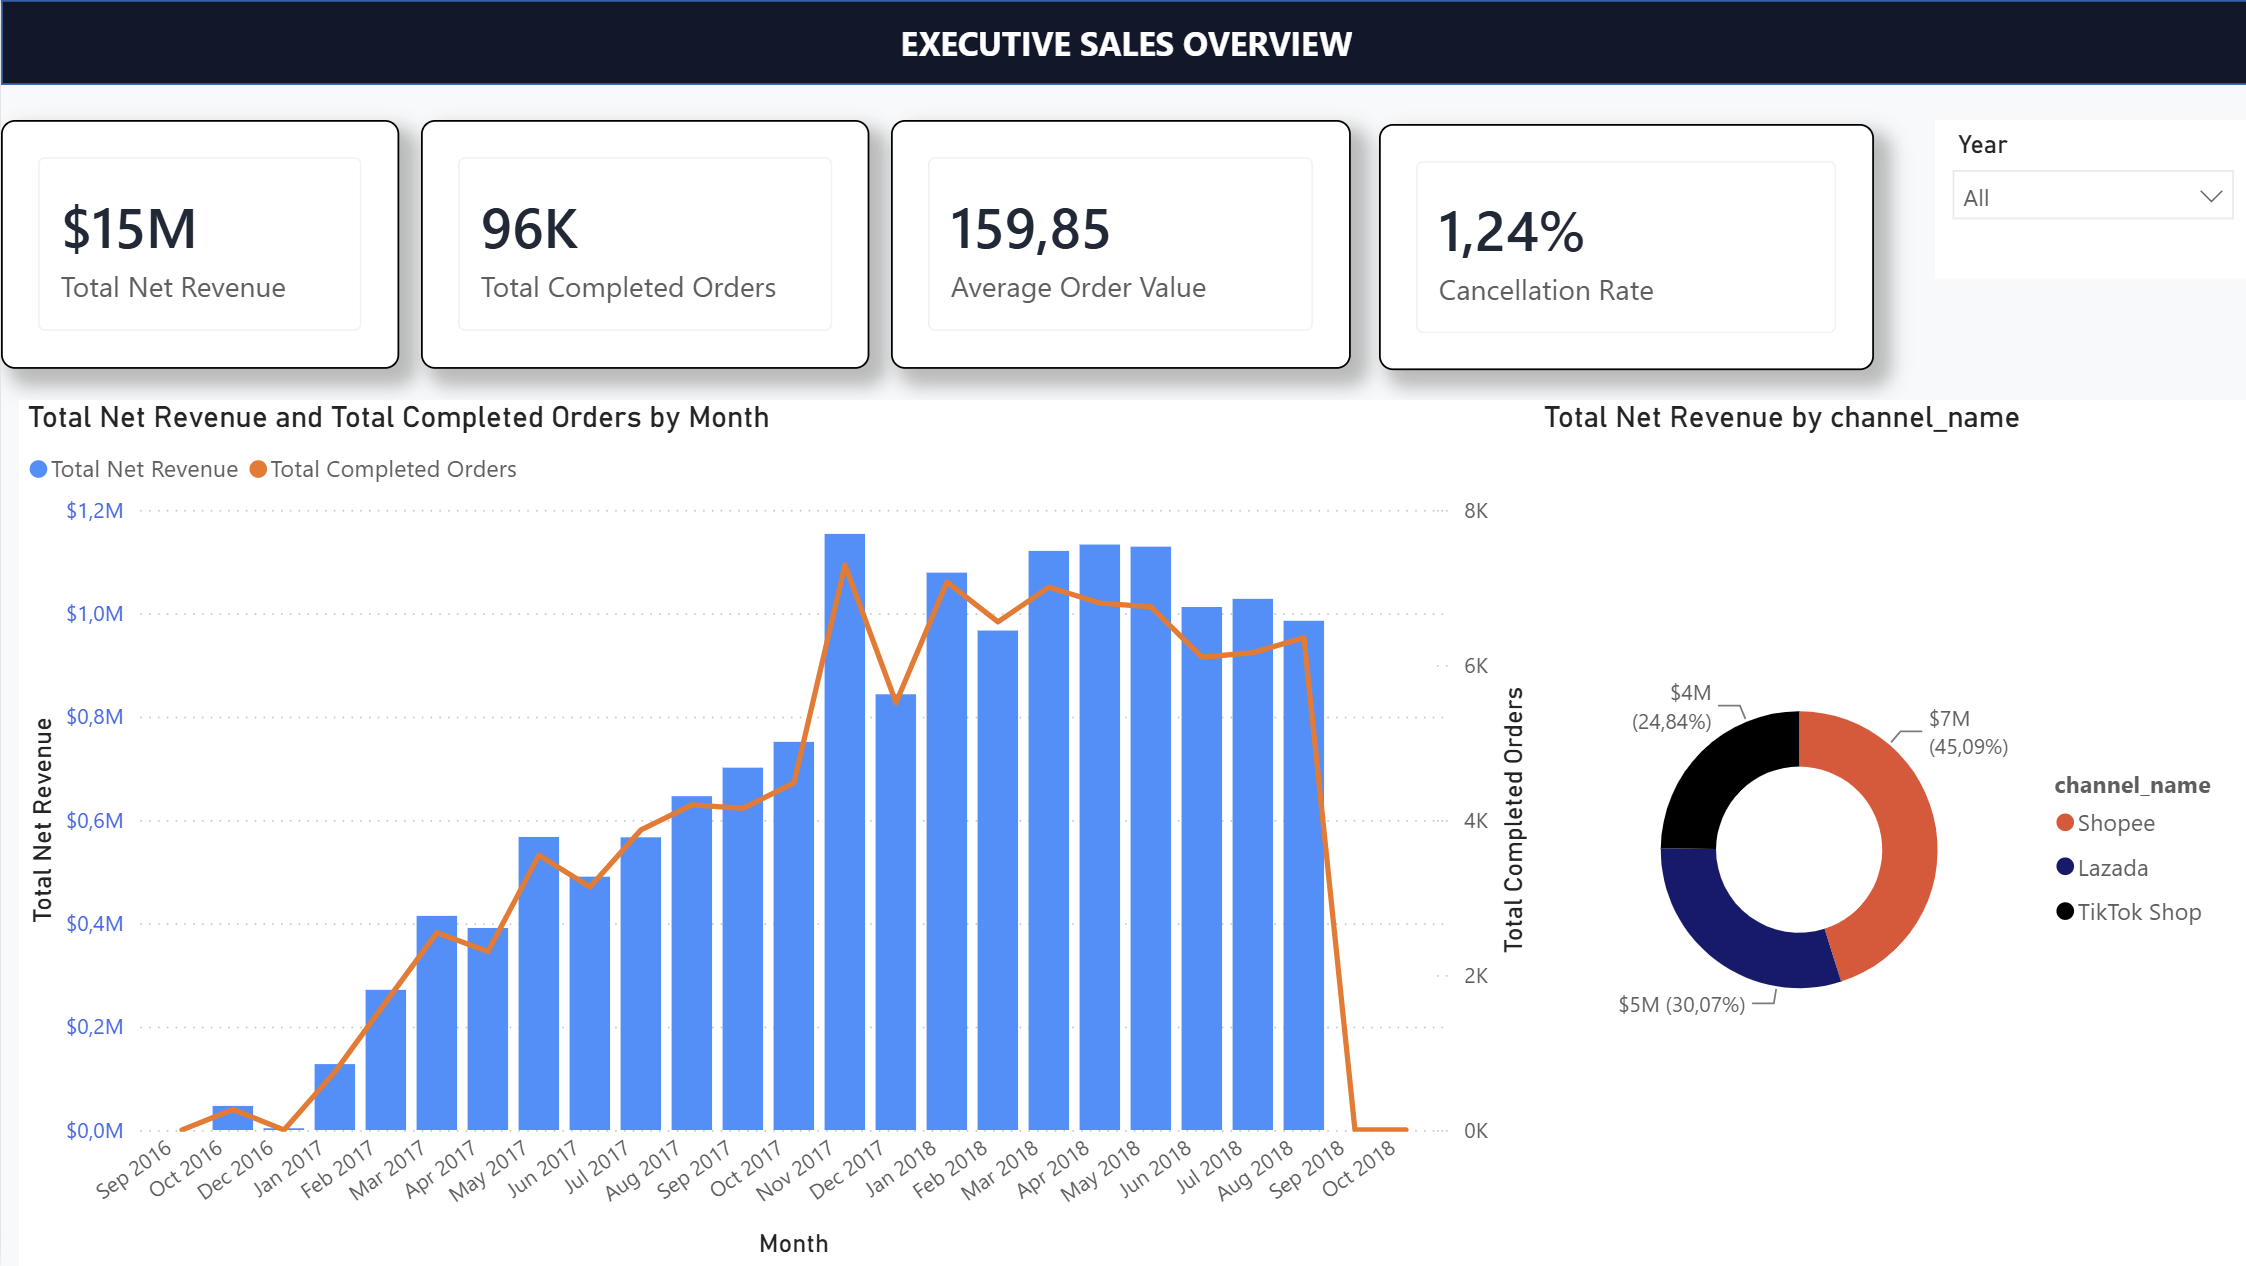

This screenshot's page, from the dashboard's own definition file:
{"tool":"powerbi","page":{"name":"Executive Sales","canvas":[1280,720],"ordinal":0},"visuals":[{"type":"cardVisual","fields":{"Data":["_Measures.Total Net Revenue"]},"box":[0,0,238.3,158.3],"z":0},{"type":"cardVisual","fields":{"Data":["_Measures.Total Completed Orders"]},"box":[238.3,0,248.3,158.3],"z":1000},{"type":"cardVisual","fields":{"Data":["_Measures.Average Order Value"]},"box":[486.7,0,295,158.3],"z":2000},{"type":"cardVisual","fields":{"Data":["_Measures.Cancellation Rate"]},"box":[780,0,298.3,158.3],"z":3000},{"type":"lineClusteredColumnComboChart","fields":{"Category":["Dim_Date.Month"],"Y":["_Measures.Total Net Revenue"],"Y2":["_Measures.Total Completed Orders"]},"box":[10,158.3,861.7,561.7],"z":4000},{"type":"donutChart","fields":{"Category":["public_marts dim_channels.channel_name"],"Y":["_Measures.Total Net Revenue"]},"box":[871.7,158.3,408.3,561.7],"z":5000},{"type":"slicer","fields":{"Values":["Dim_Date.Year"]},"box":[1076.7,23.3,203.3,116.7],"z":6000}]}

Visuals, with their boxes in screenshot pixels (x1, y1, x2, y2), scaled from the page's 1280x720 canvas onto the 2246x1266 screenshot:
cardVisual - _Measures.Total Net Revenue: box=[0, 0, 418, 278]
cardVisual - _Measures.Total Completed Orders: box=[418, 0, 854, 278]
cardVisual - _Measures.Average Order Value: box=[854, 0, 1372, 278]
cardVisual - _Measures.Cancellation Rate: box=[1369, 0, 1892, 278]
lineClusteredColumnComboChart - Dim_Date.Month x _Measures.Total Net Revenue: box=[18, 278, 1530, 1265]
donutChart - public_marts dim_channels.channel_name x _Measures.Total Net Revenue: box=[1530, 278, 2245, 1265]
slicer - Dim_Date.Year: box=[1889, 41, 2245, 246]
